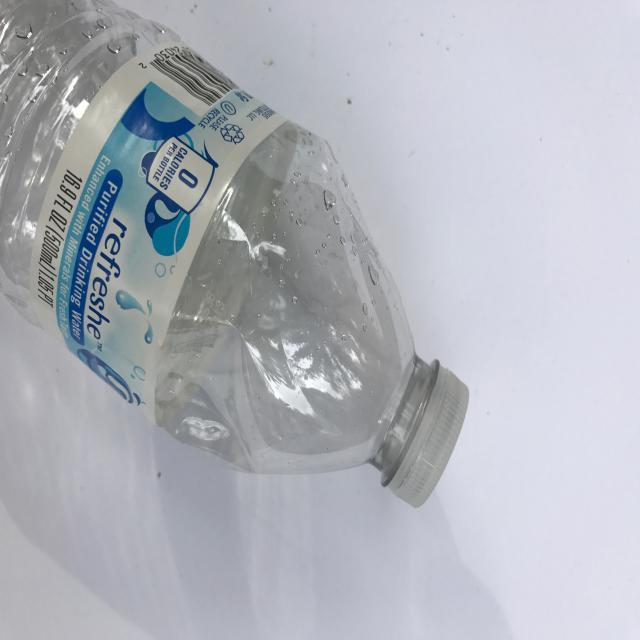plastic: (1, 1, 472, 509)
